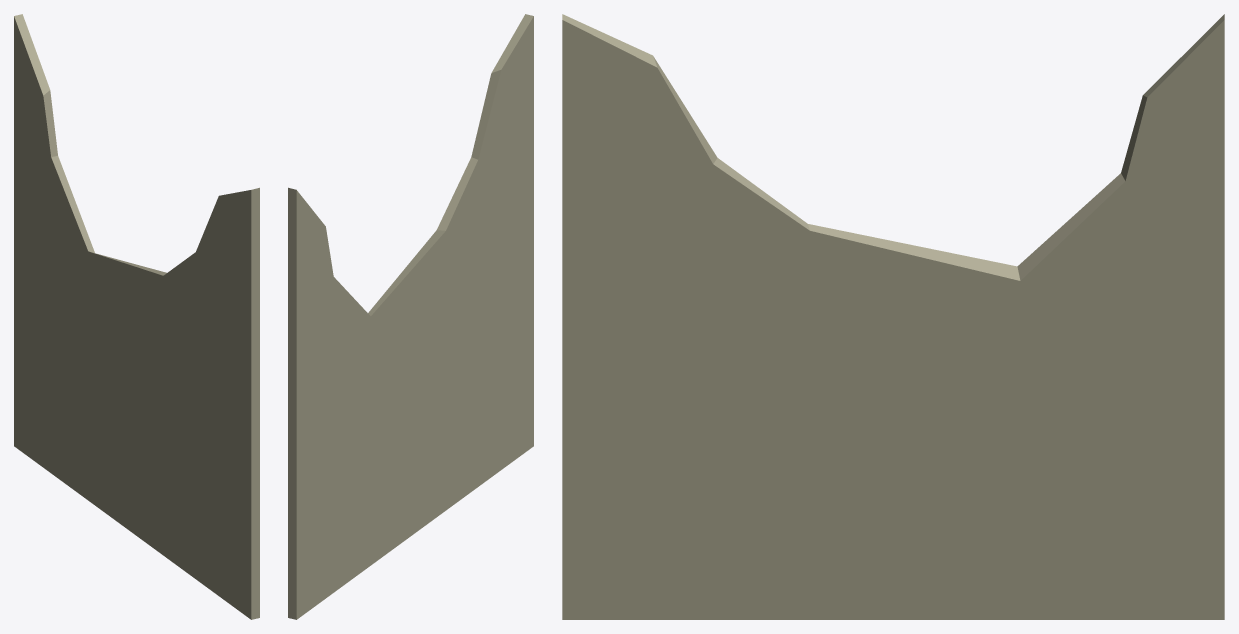
The model's file is WallBroken2.fbx.
3 views of the same model, side by side, from view 1: azimuth 30°, elevation 25°; view 2: azimuth 150°, elevation 25°; view 3: azimuth 270°, elevation 25° (orthographic). The views are drawn at different scales.
Visible parts, largest first — view 1: WallBroken2; view 2: WallBroken2; view 3: WallBroken2.
Part boxes in pixels (left/top/right/bottom): WallBroken2: left=14, top=14, right=259, bottom=619; WallBroken2: left=288, top=14, right=533, bottom=619; WallBroken2: left=562, top=14, right=1224, bottom=619.
Bounding box in the file's own units: 0.25 × 12 × 12.
